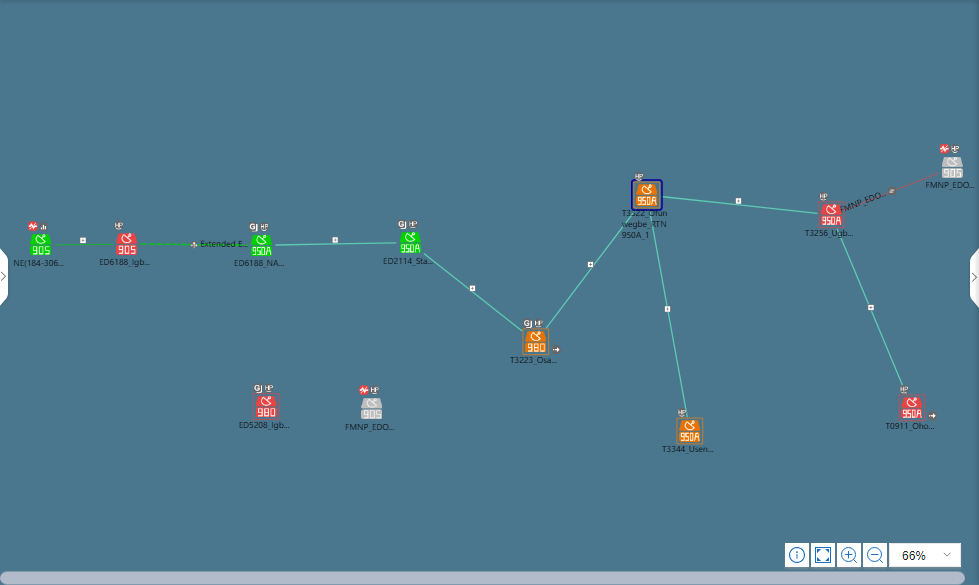Link_Blue: (835, 228, 907, 386), (548, 210, 638, 322), (646, 210, 693, 413), (425, 253, 519, 328), (704, 198, 808, 211)
Link_Red: (847, 173, 929, 205)
RTN_Gray: (358, 400, 387, 423), (939, 155, 961, 178)
RTN_Green: (248, 234, 277, 257), (401, 234, 424, 257), (28, 234, 49, 257)
RTN_Orange: (676, 418, 705, 447), (523, 332, 552, 355), (633, 185, 662, 207)
RTN_Red: (896, 393, 925, 423), (254, 393, 283, 423), (113, 234, 142, 257), (817, 204, 846, 225)
